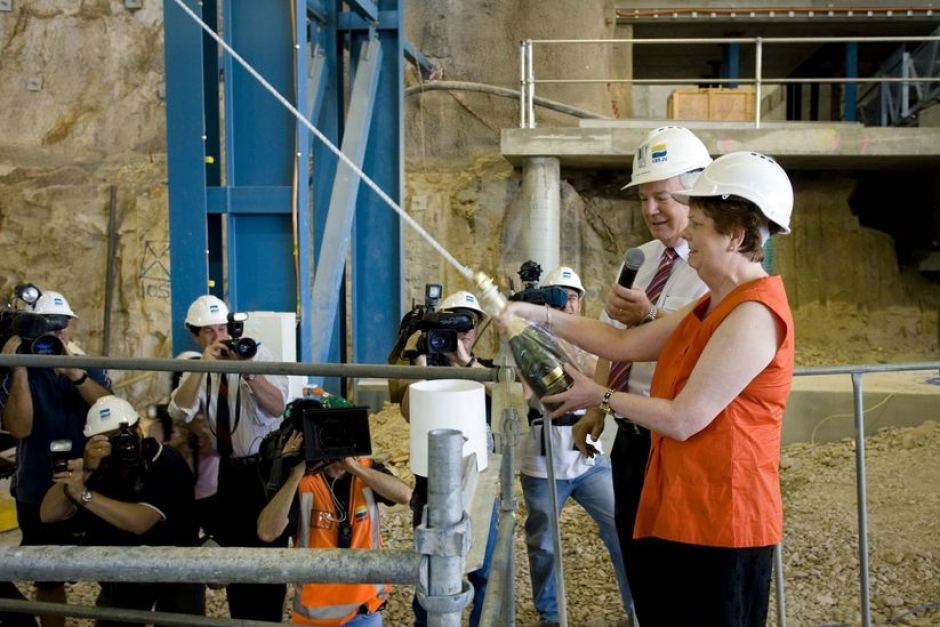white: (679, 152, 798, 281), (627, 122, 709, 243), (82, 394, 142, 457), (435, 290, 485, 352), (534, 265, 587, 321), (183, 297, 234, 353), (27, 292, 79, 342)
